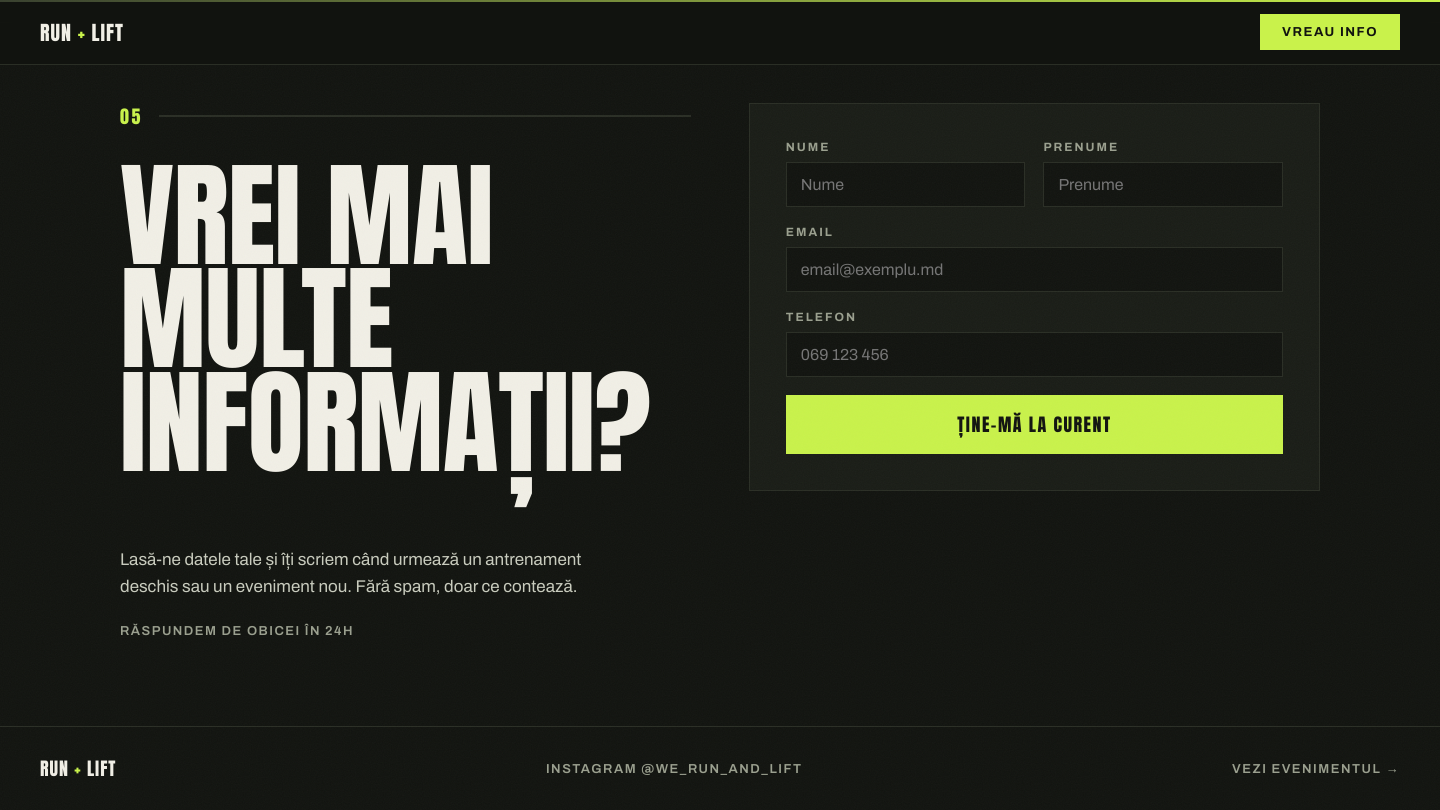
Test: pagina Despre noi › draftul invalid afișează eroarea fără comandă
(page scrolled)
Click the button "Ține-mă la curent" at (1034, 424), box x1=786 y1=395 x2=1283 y2=454
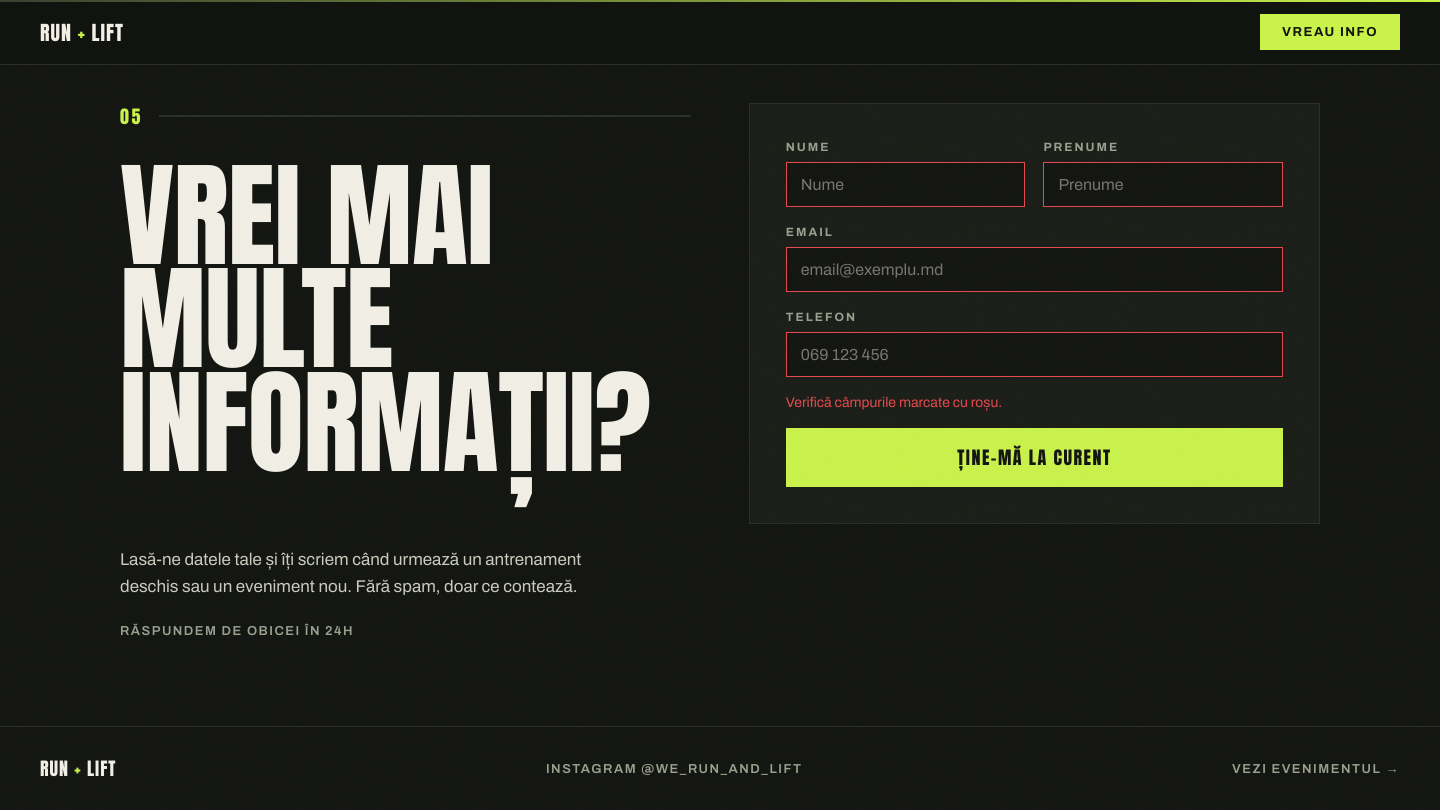
expect the message shows "Verifică": met, box x1=786 y1=395 x2=1002 y2=410
